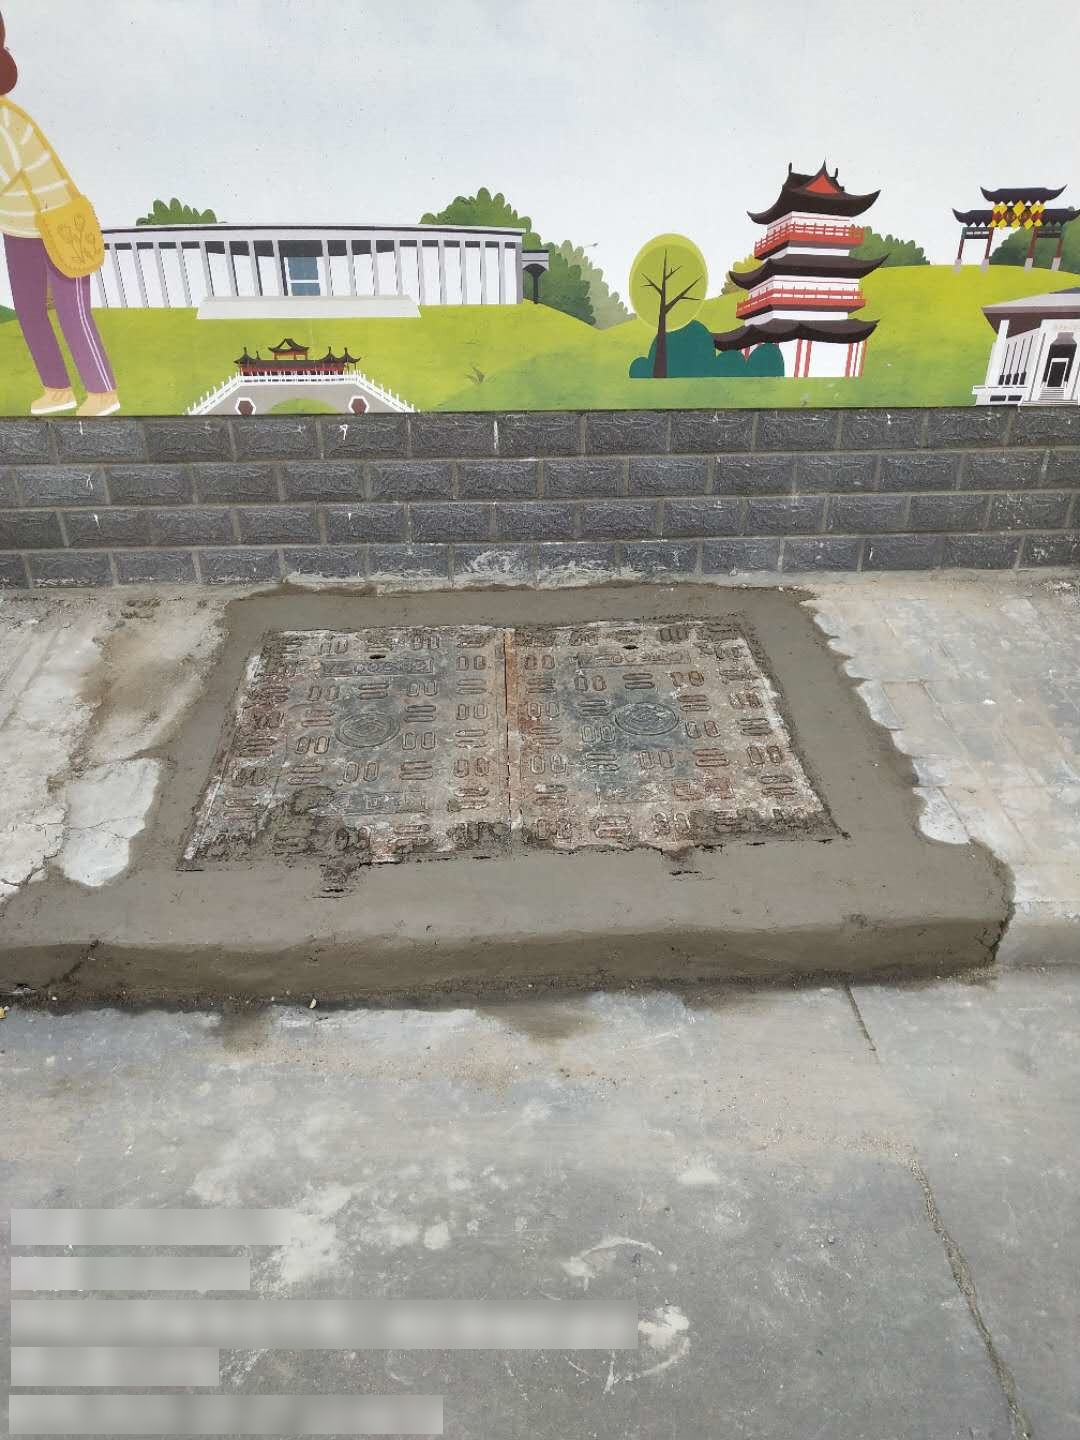good: (160, 609, 861, 899)
